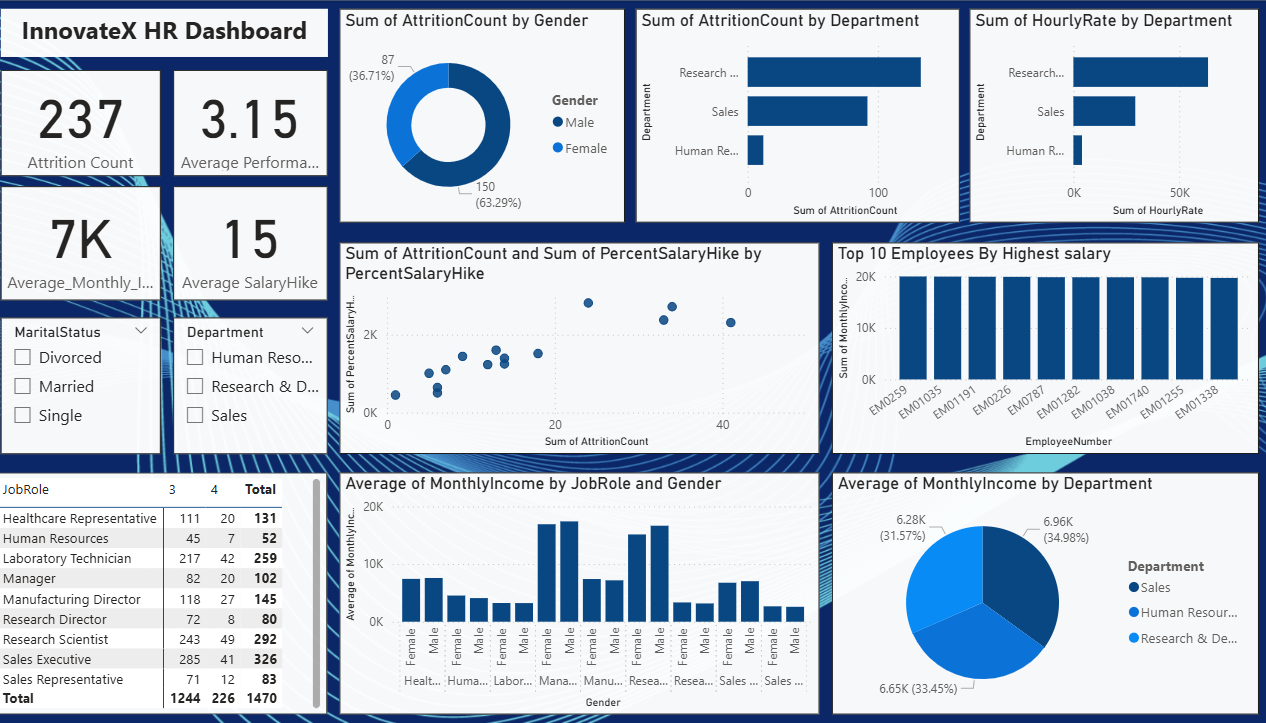

The page's visual inventory and layout, read from the dashboard file:
{"tool":"powerbi","page":{"name":"InnovateX HR Dashboard","canvas":[1280,720],"ordinal":4},"visuals":[{"type":"textbox","box":[18.6,8.1,325.6,47.7],"z":0},{"type":"card","fields":{"Values":["Sum(InnovateX.AttritionCount)"]},"box":[18.6,69.8,159.3,105.8],"z":1000},{"type":"donutChart","fields":{"Category":["InnovateX.Gender"],"Y":["Sum(InnovateX.AttritionCount)"]},"box":[355.8,8.1,283.7,212.8],"z":2000},{"type":"barChart","fields":{"Category":["InnovateX.Department"],"Y":["Sum(InnovateX.AttritionCount)"]},"box":[650,8.1,322.1,212.8],"z":3000},{"type":"pivotTable","fields":{"Values":["CountNonNull(InnovateX.EmployeeNumber)"],"Rows":["InnovateX.JobRole"],"Columns":["InnovateX.PerformanceRating"]},"box":[10.5,469.8,333.7,240.7],"z":4000},{"type":"barChart","fields":{"Category":["InnovateX.Department"],"Y":["Sum(InnovateX.HourlyRate)"]},"box":[982.6,8.1,288.4,212.8],"z":5000},{"type":"clusteredColumnChart","fields":{"Y":["Avg(InnovateX.MonthlyIncome)"],"Category":["InnovateX.JobRole","InnovateX.Gender"]},"box":[355.8,469.8,477.9,240.7],"z":6000},{"type":"scatterChart","fields":{"X":["Sum(InnovateX.AttritionCount)"],"Y":["Sum(InnovateX.PercentSalaryHike)"],"Category":["InnovateX.PercentSalaryHike"]},"box":[355.8,241.9,477.9,210.5],"z":7000},{"type":"columnChart","title":"Top 10 Employees By Highest salary","fields":{"Y":["Sum(InnovateX.MonthlyIncome)"],"Category":["InnovateX.EmployeeNumber"]},"box":[846.5,241.9,424.4,210.5],"z":8000},{"type":"slicer","fields":{"Values":["InnovateX.MaritalStatus"]},"box":[18.6,316.3,159.3,136],"z":9000},{"type":"card","fields":{"Values":["Avg(InnovateX.PerformanceRating)"]},"box":[190.7,69.8,153.5,105.8],"z":10000},{"type":"card","fields":{"Values":["Avg(InnovateX.MonthlyIncome)"]},"box":[18.6,184.9,159.3,114],"z":11000},{"type":"card","fields":{"Values":["Avg(InnovateX.PercentSalaryHike)"]},"box":[190.7,184.9,153.5,114],"z":12000},{"type":"slicer","fields":{"Values":["InnovateX.Department"]},"box":[190.7,316.3,153.5,136],"z":13000},{"type":"pieChart","fields":{"Category":["InnovateX.Department"],"Y":["Avg(InnovateX.MonthlyIncome)"]},"box":[846.5,469.8,424.4,240.7],"z":14000}]}

Visuals, with their boxes in screenshot pixels (x1, y1, x2, y2), scaled from the page's 1280x720 canvas onto the 1266x723 screenshot:
textbox: [x1=18, y1=8, x2=340, y2=56]
card - Sum(InnovateX.AttritionCount): [x1=18, y1=70, x2=176, y2=176]
donutChart - InnovateX.Gender x Sum(InnovateX.AttritionCount): [x1=352, y1=8, x2=633, y2=222]
barChart - InnovateX.Department x Sum(InnovateX.AttritionCount): [x1=643, y1=8, x2=961, y2=222]
pivotTable - CountNonNull(InnovateX.EmployeeNumber) x InnovateX.JobRole: [x1=10, y1=472, x2=340, y2=713]
barChart - InnovateX.Department x Sum(InnovateX.HourlyRate): [x1=972, y1=8, x2=1257, y2=222]
clusteredColumnChart - Avg(InnovateX.MonthlyIncome) x InnovateX.JobRole: [x1=352, y1=472, x2=825, y2=713]
scatterChart - Sum(InnovateX.AttritionCount) x Sum(InnovateX.PercentSalaryHike): [x1=352, y1=243, x2=825, y2=454]
"Top 10 Employees By Highest salary" columnChart: [x1=837, y1=243, x2=1257, y2=454]
slicer - InnovateX.MaritalStatus: [x1=18, y1=318, x2=176, y2=454]
card - Avg(InnovateX.PerformanceRating): [x1=189, y1=70, x2=340, y2=176]
card - Avg(InnovateX.MonthlyIncome): [x1=18, y1=186, x2=176, y2=300]
card - Avg(InnovateX.PercentSalaryHike): [x1=189, y1=186, x2=340, y2=300]
slicer - InnovateX.Department: [x1=189, y1=318, x2=340, y2=454]
pieChart - InnovateX.Department x Avg(InnovateX.MonthlyIncome): [x1=837, y1=472, x2=1257, y2=713]
